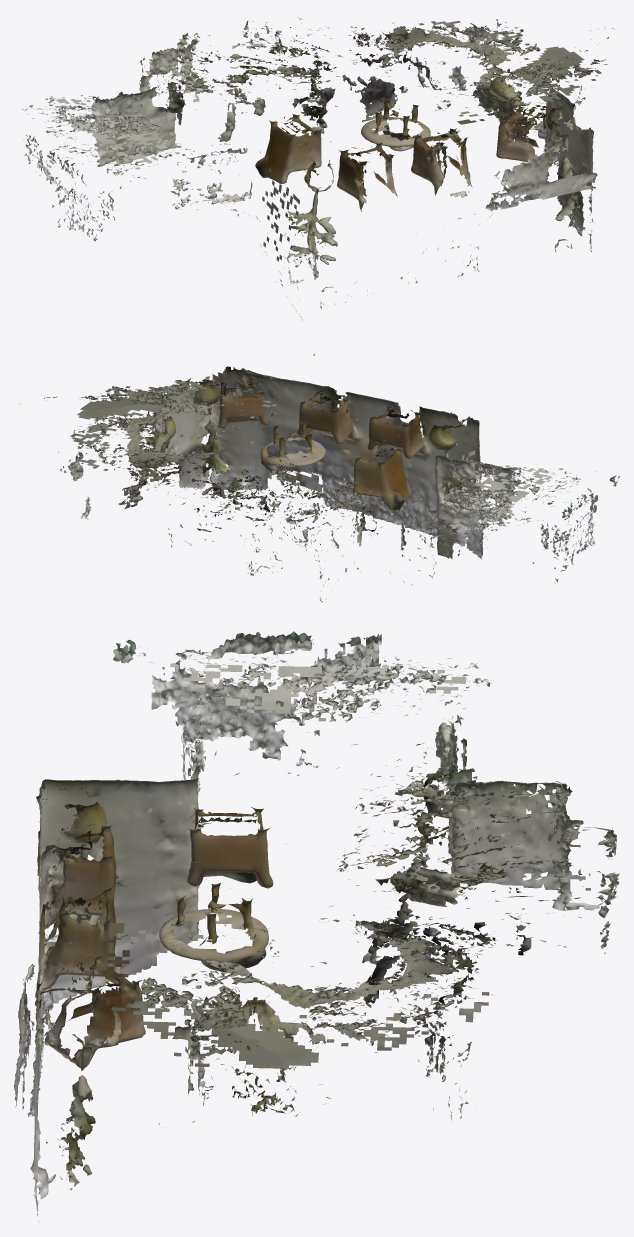
File: OBSERVED-plus-INFERRED.glb
3 views of the same model, one above another, from view 1: azimuth 30°, elevation 25°; view 2: azimuth 150°, elevation 25°; view 3: azimuth 270°, elevation 25° (orthographic). The views are drawn at different scales.
Parts seen in each view (by area): view 1: world; view 2: world; view 3: world.
Part boxes in pixels (box(x1,y1,x2,y2)): world: box(22, 17, 614, 320); world: box(20, 354, 619, 602); world: box(14, 631, 619, 1221).
Bounding box in the file's own units: 10.15 × 3.27 × 5.86.
